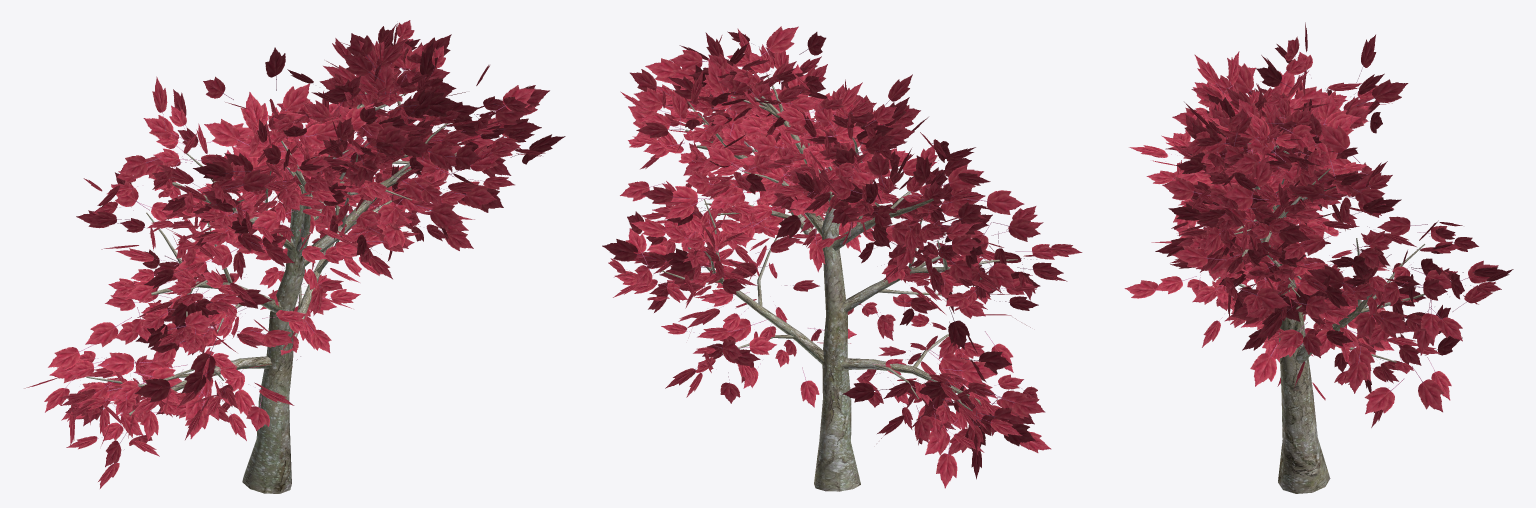
Rendered from tree_maple_red.glb.
The picture shows the model from 3 angles, left to right: view 1: azimuth 30°, elevation 25°; view 2: azimuth 150°, elevation 25°; view 3: azimuth 270°, elevation 25°; orthographic projection. The views are drawn at different scales.
Parts seen in each view (by area): view 1: tree; view 2: tree; view 3: tree.
Part boxes in pixels (x1,y1,x2,y2): tree: [24, 20, 565, 493]; tree: [602, 26, 1082, 491]; tree: [1124, 22, 1513, 493].
Size of the model in its own units: 6.53 by 5.66 by 4.47.
2 materials, 2 textured.
